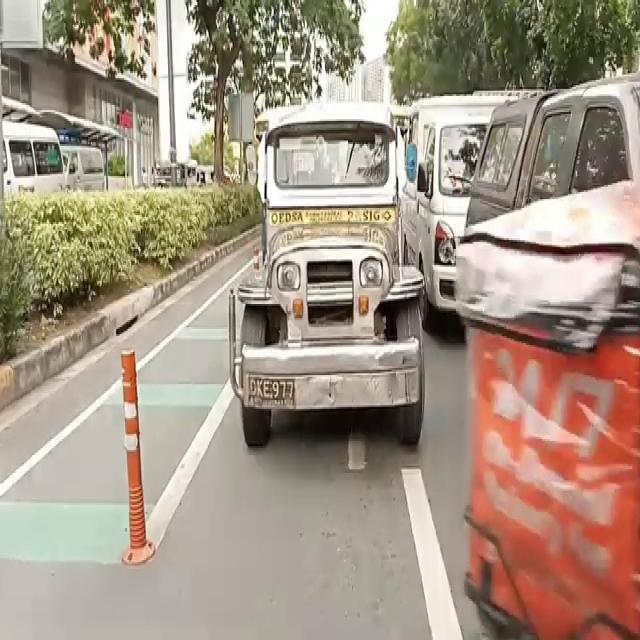car: (423, 115, 476, 329)
jeepney: (256, 113, 416, 446)
